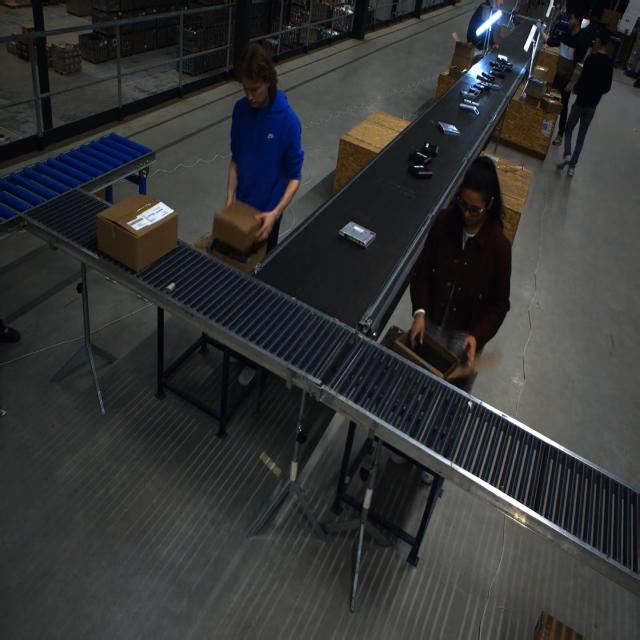box: (95, 193, 177, 273), (209, 202, 267, 274), (448, 39, 479, 73), (539, 92, 562, 115), (523, 77, 545, 100), (555, 55, 575, 80), (439, 65, 465, 81), (530, 64, 548, 83)
product: (338, 222, 376, 249), (407, 164, 432, 179), (437, 121, 461, 135), (407, 151, 431, 165), (459, 101, 479, 116), (419, 142, 438, 157), (489, 59, 510, 71), (461, 88, 481, 99), (477, 74, 495, 84), (473, 81, 490, 91), (487, 69, 505, 78), (483, 66, 495, 75), (496, 54, 508, 63)
